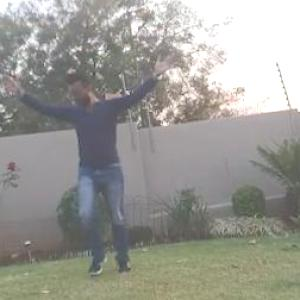takeoff: (1, 59, 174, 287)
